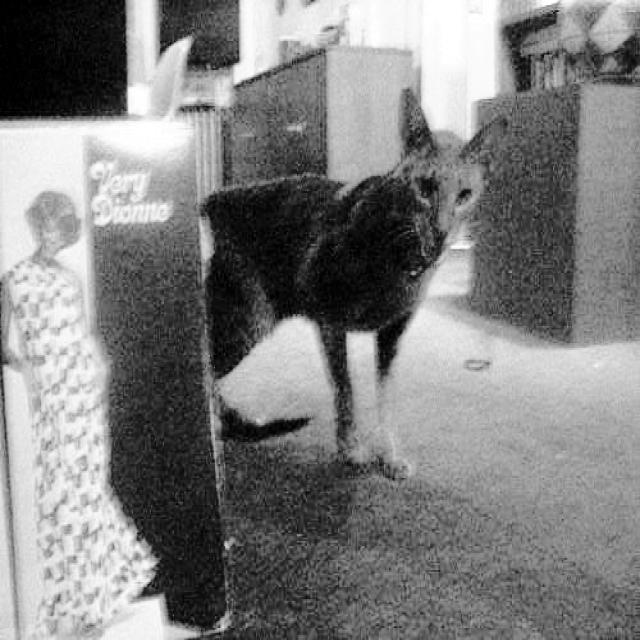Cat: (186, 125, 516, 481)
